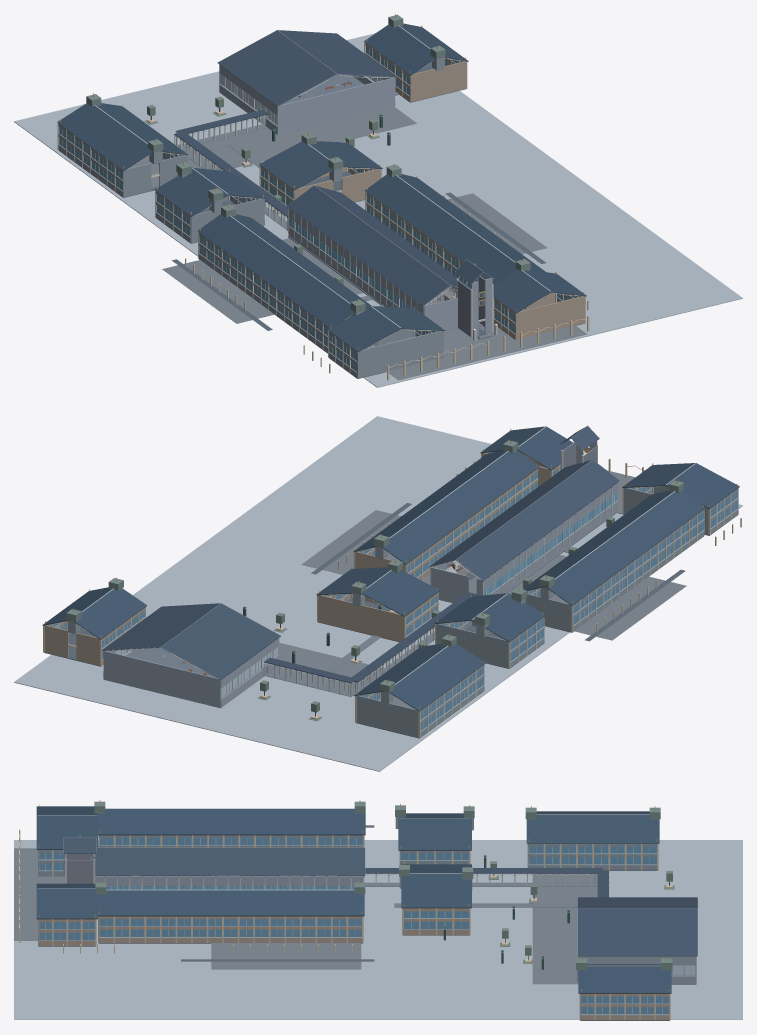
Rendered from lahudi-academy.glb.
3 renders of one model, top to bottom at view 1: azimuth 30°, elevation 25°; view 2: azimuth 150°, elevation 25°; view 3: azimuth 270°, elevation 25°, orthographic.
Parts seen in each view (by area): view 1: RG-GAME-02-EXTERIOR-REBUILD-V5__winter_campus_snowbase, RG-GAME-02-EXTERIOR-REBUILD-V5__academic_high_gable_slate_ro (×2), RG-GAME-02-EXTERIOR-REBUILD-V5__library_high_gable_slate_roo (×2), RG-GAME-02-CAMPUS-REBUILD-V6__WEST_CLASSROOM_GALLERY_roof_pa (×2), RG-GAME-02-CAMPUS-REBUILD-V6__EAST_CLASSROOM_GALLERY_roof_pa (×2), RG-GAME-02-CAMPUS-REBUILD-V6__inner_quad_plaza, RG-GAME-02-CAMPUS-REBUILD-V6__library_approach_plaza, RG-GAME-02-CAMPUS-REBUILD-V6__CHAPEL_WESTERN_GALLERY_roof_pa (×2), RG-GAME-02-EXTERIOR-REBUILD-V5__library_endwall_south, RG-GAME-02-CAMPUS-REBUILD-V6__front_forecourt, RG-GAME-02-CAMPUS-REBUILD-V6__NORTH_ARCHIVE_WING_roof_panel_ (×2), RG-GAME-02-CAMPUS-REBUILD-V6__SOUTH_CAMPUS_GALLERY_roof_pane (×2) (+13 smaller); view 2: RG-GAME-02-EXTERIOR-REBUILD-V5__winter_campus_snowbase, RG-GAME-02-EXTERIOR-REBUILD-V5__academic_high_gable_slate_ro (×2), RG-GAME-02-EXTERIOR-REBUILD-V5__library_high_gable_slate_roo (×2), RG-GAME-02-CAMPUS-REBUILD-V6__WEST_CLASSROOM_GALLERY_roof_pa (×2), RG-GAME-02-CAMPUS-REBUILD-V6__EAST_CLASSROOM_GALLERY_roof_pa (×2), RG-GAME-02-CAMPUS-REBUILD-V6__inner_quad_plaza, RG-GAME-02-CAMPUS-REBUILD-V6__CHAPEL_WESTERN_GALLERY_roof_pa (×2), RG-GAME-02-EXTERIOR-REBUILD-V5__library_endwall_north, RG-GAME-02-CAMPUS-REBUILD-V6__NORTH_ARCHIVE_WING_roof_panel_ (×2), RG-GAME-02-CAMPUS-REBUILD-V6__NORTH_COLLEGE_LINK_roof_panel_ (×2), RG-GAME-02-CAMPUS-REBUILD-V6__LIBRARY_EAST_ARCHIVE_roof_pane (×2), RG-GAME-02-CAMPUS-REBUILD-V6__SOUTH_CAMPUS_GALLERY_roof_pane (×2) (+11 smaller); view 3: RG-GAME-02-EXTERIOR-REBUILD-V5__winter_campus_snowbase, RG-GAME-02-EXTERIOR-REBUILD-V5__academic_high_gable_slate_ro, RG-GAME-02-EXTERIOR-REBUILD-V5__library_high_gable_slate_roo (×2), RG-GAME-02-CAMPUS-REBUILD-V6__WEST_CLASSROOM_GALLERY_roof_pa, RG-GAME-02-CAMPUS-REBUILD-V6__EAST_CLASSROOM_GALLERY_roof_pa, RG-GAME-02-CAMPUS-REBUILD-V6__library_approach_plaza, RG-GAME-02-CAMPUS-REBUILD-V6__CHAPEL_WESTERN_GALLERY_roof_pa (×2), RG-GAME-02-CAMPUS-REBUILD-V6__inner_quad_plaza, RG-GAME-02-CAMPUS-REBUILD-V6__NORTH_ARCHIVE_WING_roof_panel_ (×2), RG-GAME-02-CAMPUS-REBUILD-V6__LIBRARY_EAST_ARCHIVE_roof_pane, RG-GAME-02-CAMPUS-REBUILD-V6__NORTH_COLLEGE_LINK_roof_panel_, RG-GAME-02-CAMPUS-REBUILD-V6__front_forecourt (+8 smaller).
Boxes of the visible parts, bbox=[...] form: RG-GAME-02-EXTERIOR-REBUILD-V5__winter_campus_snowbase: bbox=[14, 33, 742, 387]; RG-GAME-02-EXTERIOR-REBUILD-V5__academic_high_gable_slate_ro (×2): bbox=[287, 185, 471, 305]; RG-GAME-02-EXTERIOR-REBUILD-V5__library_high_gable_slate_roo (×2): bbox=[218, 30, 396, 106]; RG-GAME-02-CAMPUS-REBUILD-V6__WEST_CLASSROOM_GALLERY_roof_pa (×2): bbox=[197, 214, 371, 327]; RG-GAME-02-CAMPUS-REBUILD-V6__EAST_CLASSROOM_GALLERY_roof_pa (×2): bbox=[364, 174, 545, 285]; RG-GAME-02-CAMPUS-REBUILD-V6__inner_quad_plaza: bbox=[162, 193, 546, 323]; RG-GAME-02-CAMPUS-REBUILD-V6__library_approach_plaza: bbox=[128, 106, 416, 188]; RG-GAME-02-CAMPUS-REBUILD-V6__CHAPEL_WESTERN_GALLERY_roof_pa (×2): bbox=[57, 103, 188, 170]; RG-GAME-02-EXTERIOR-REBUILD-V5__library_endwall_south: bbox=[277, 78, 394, 134]; RG-GAME-02-CAMPUS-REBUILD-V6__front_forecourt: bbox=[389, 324, 586, 380]; RG-GAME-02-CAMPUS-REBUILD-V6__NORTH_ARCHIVE_WING_roof_panel_ (×2): bbox=[259, 141, 382, 190]; RG-GAME-02-CAMPUS-REBUILD-V6__SOUTH_CAMPUS_GALLERY_roof_pane (×2): bbox=[327, 306, 444, 351]; RG-GAME-02-EXTERIOR-REBUILD-V5__winter_campus_snowbase: bbox=[14, 416, 742, 771]; RG-GAME-02-EXTERIOR-REBUILD-V5__academic_high_gable_slate_ro (×2): bbox=[429, 460, 619, 580]; RG-GAME-02-EXTERIOR-REBUILD-V5__library_high_gable_slate_roo (×2): bbox=[102, 603, 280, 679]; RG-GAME-02-CAMPUS-REBUILD-V6__WEST_CLASSROOM_GALLERY_roof_pa (×2): bbox=[523, 490, 705, 605]; RG-GAME-02-CAMPUS-REBUILD-V6__EAST_CLASSROOM_GALLERY_roof_pa (×2): bbox=[353, 450, 539, 564]; RG-GAME-02-CAMPUS-REBUILD-V6__inner_quad_plaza: bbox=[301, 510, 686, 640]; RG-GAME-02-CAMPUS-REBUILD-V6__CHAPEL_WESTERN_GALLERY_roof_pa (×2): bbox=[354, 643, 485, 711]; RG-GAME-02-EXTERIOR-REBUILD-V5__library_endwall_north: bbox=[103, 651, 220, 707]; RG-GAME-02-CAMPUS-REBUILD-V6__NORTH_ARCHIVE_WING_roof_panel_ (×2): bbox=[316, 567, 439, 616]; RG-GAME-02-CAMPUS-REBUILD-V6__NORTH_COLLEGE_LINK_roof_panel_ (×2): bbox=[434, 593, 545, 642]; RG-GAME-02-CAMPUS-REBUILD-V6__LIBRARY_EAST_ARCHIVE_roof_pane (×2): bbox=[42, 587, 146, 639]; RG-GAME-02-CAMPUS-REBUILD-V6__SOUTH_CAMPUS_GALLERY_roof_pane (×2): bbox=[622, 463, 739, 509]; RG-GAME-02-EXTERIOR-REBUILD-V5__winter_campus_snowbase: bbox=[14, 840, 742, 1019]; RG-GAME-02-EXTERIOR-REBUILD-V5__academic_high_gable_slate_ro: bbox=[91, 848, 364, 875]; RG-GAME-02-EXTERIOR-REBUILD-V5__library_high_gable_slate_roo (×2): bbox=[578, 897, 697, 956]; RG-GAME-02-CAMPUS-REBUILD-V6__WEST_CLASSROOM_GALLERY_roof_pa: bbox=[98, 809, 365, 835]; RG-GAME-02-CAMPUS-REBUILD-V6__EAST_CLASSROOM_GALLERY_roof_pa: bbox=[97, 890, 364, 916]; RG-GAME-02-CAMPUS-REBUILD-V6__library_approach_plaza: bbox=[532, 873, 597, 984]; RG-GAME-02-CAMPUS-REBUILD-V6__CHAPEL_WESTERN_GALLERY_roof_pa (×2): bbox=[526, 811, 659, 843]; RG-GAME-02-CAMPUS-REBUILD-V6__inner_quad_plaza: bbox=[211, 886, 361, 969]; RG-GAME-02-CAMPUS-REBUILD-V6__NORTH_ARCHIVE_WING_roof_panel_ (×2): bbox=[401, 864, 471, 908]; RG-GAME-02-CAMPUS-REBUILD-V6__LIBRARY_EAST_ARCHIVE_roof_pane: bbox=[578, 966, 671, 993]; RG-GAME-02-CAMPUS-REBUILD-V6__NORTH_COLLEGE_LINK_roof_panel_: bbox=[398, 818, 471, 850]; RG-GAME-02-CAMPUS-REBUILD-V6__front_forecourt: bbox=[14, 848, 64, 940].
Size of the model in its own units: 167 by 26.24 by 253.
